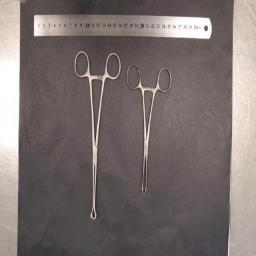Allis Tissue Forceps: (126, 63, 174, 195)
